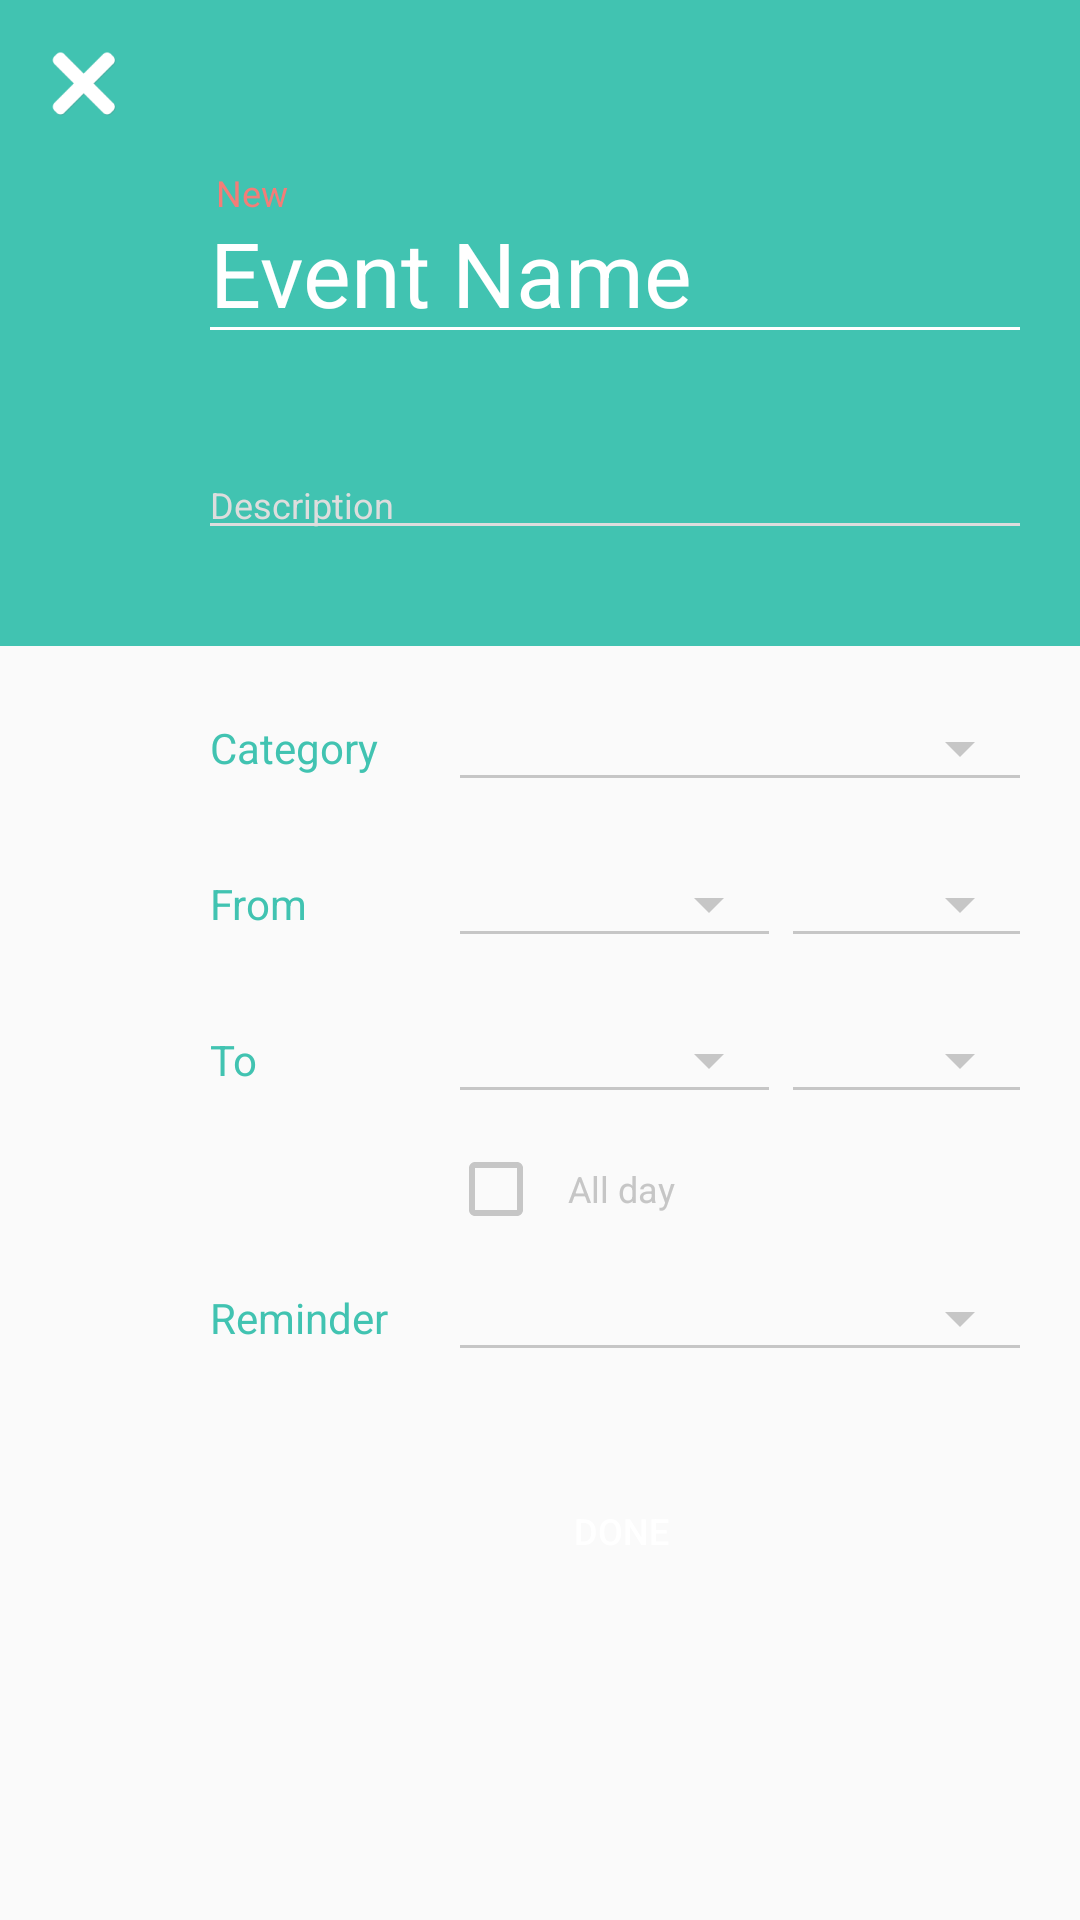

Icon bounding boxes for this 1080x1920 phone screenshot, format box(x1, y1, x2, y2):
close: box(52, 52, 115, 115)
